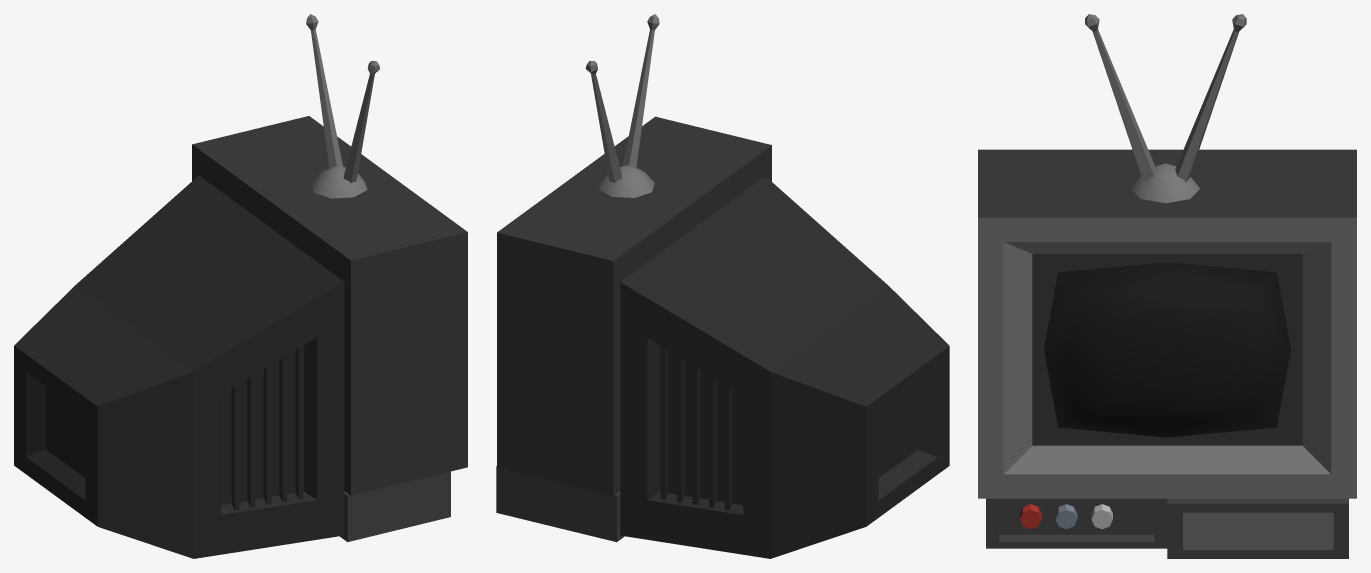
The picture shows the model from 3 angles, left to right: view 1: azimuth 30°, elevation 25°; view 2: azimuth 150°, elevation 25°; view 3: azimuth 270°, elevation 25°; orthographic projection. The views are drawn at different scales.
Visible parts, largest first — view 1: SM_TV_01; view 2: SM_TV_01; view 3: SM_TV_01.
Part boxes in pixels (x1,y1,x2,y2): SM_TV_01: (14, 14, 467, 558); SM_TV_01: (496, 14, 949, 558); SM_TV_01: (978, 14, 1356, 558).
Size of the model in its own units: 0.7508 by 0.9114 by 0.6068.
Materials: 1 (1 with a texture image).
